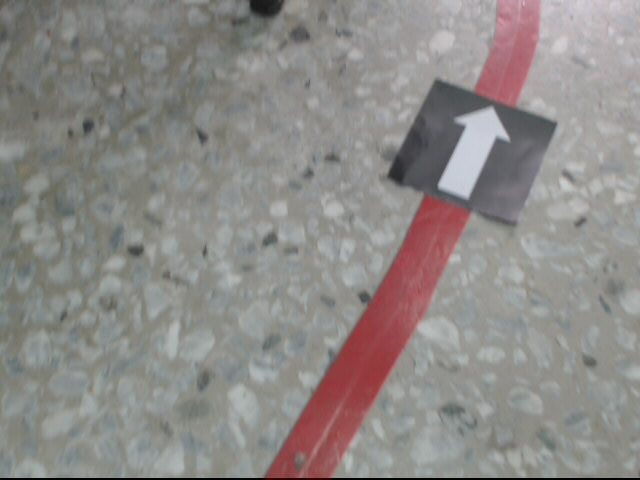straight: (390, 76, 558, 223)
